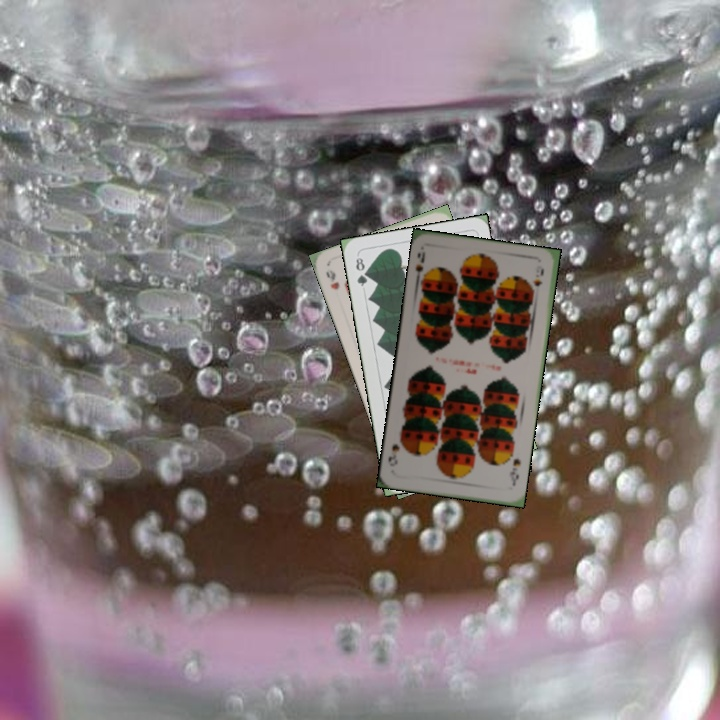G8: (351, 252, 370, 289)
H9: (322, 266, 342, 292)
S9: (411, 247, 431, 286), (505, 454, 523, 488)
